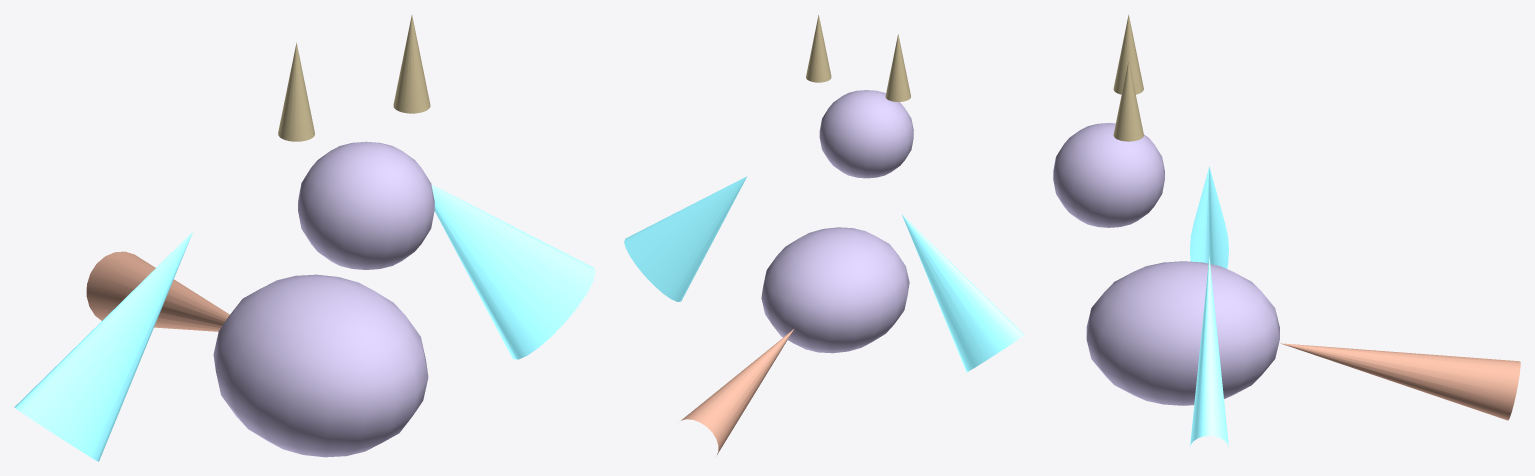
The model's file is pocket-dragon.glb.
3 views of the same model, side by side, from view 1: azimuth 30°, elevation 25°; view 2: azimuth 150°, elevation 25°; view 3: azimuth 270°, elevation 25° (orthographic). The views are drawn at different scales.
Parts seen in each view (by area): view 1: pocket-dragon-body, pocket-dragon-head, pocket-dragon-right-wing, pocket-dragon-left-wing, pocket-dragon-tail, pocket-dragon-right-horn, pocket-dragon-left-horn; view 2: pocket-dragon-body, pocket-dragon-head, pocket-dragon-right-wing, pocket-dragon-left-wing, pocket-dragon-tail, pocket-dragon-right-horn, pocket-dragon-left-horn; view 3: pocket-dragon-body, pocket-dragon-head, pocket-dragon-tail, pocket-dragon-right-wing, pocket-dragon-left-wing, pocket-dragon-right-horn, pocket-dragon-left-horn.
Part boxes in pixels (box(x1,y1,x2,y2)): pocket-dragon-body: box(213, 274, 428, 457); pocket-dragon-head: box(298, 141, 434, 269); pocket-dragon-right-wing: box(431, 184, 595, 359); pocket-dragon-left-wing: box(14, 232, 192, 461); pocket-dragon-tail: box(86, 251, 229, 331); pocket-dragon-right-horn: box(393, 15, 430, 113); pocket-dragon-left-horn: box(278, 43, 314, 141); pocket-dragon-body: box(761, 227, 909, 353); pocket-dragon-head: box(819, 90, 913, 178); pocket-dragon-right-wing: box(624, 176, 746, 301); pocket-dragon-left-wing: box(901, 214, 1024, 372); pocket-dragon-tail: box(681, 329, 793, 454); pocket-dragon-right-horn: box(806, 15, 831, 82); pocket-dragon-left-horn: box(885, 34, 910, 101); pocket-dragon-body: box(1086, 261, 1279, 405); pocket-dragon-head: box(1053, 123, 1164, 227); pocket-dragon-tail: box(1280, 343, 1520, 420); pocket-dragon-right-wing: box(1190, 256, 1228, 447); pocket-dragon-left-wing: box(1189, 166, 1228, 268); pocket-dragon-right-horn: box(1113, 61, 1143, 141); pocket-dragon-left-horn: box(1113, 14, 1143, 94).
Bounding box in the file's own units: 2.5 × 1.93 × 2.14.
